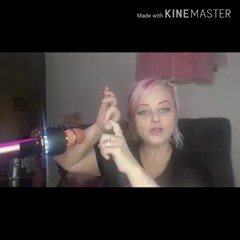Q: (87, 82, 138, 176)
